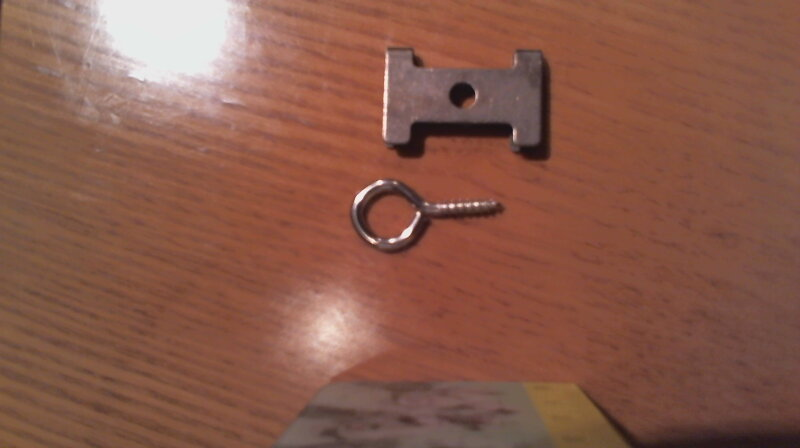O001: (345, 175, 509, 251)
O002: (377, 41, 550, 159)
